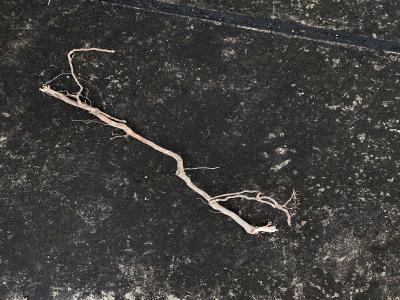Root: (40, 48, 290, 234)
